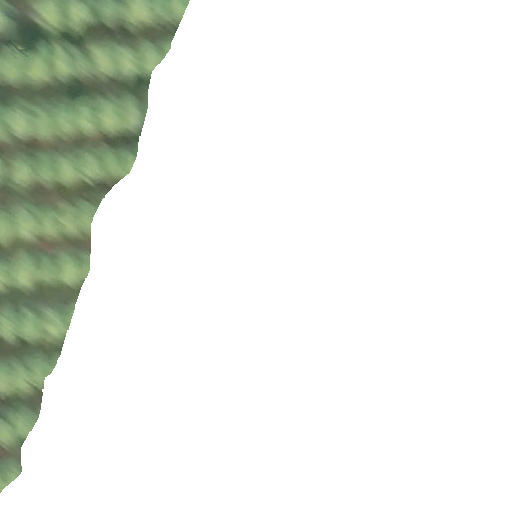eucalipto: (55, 98, 86, 141)
